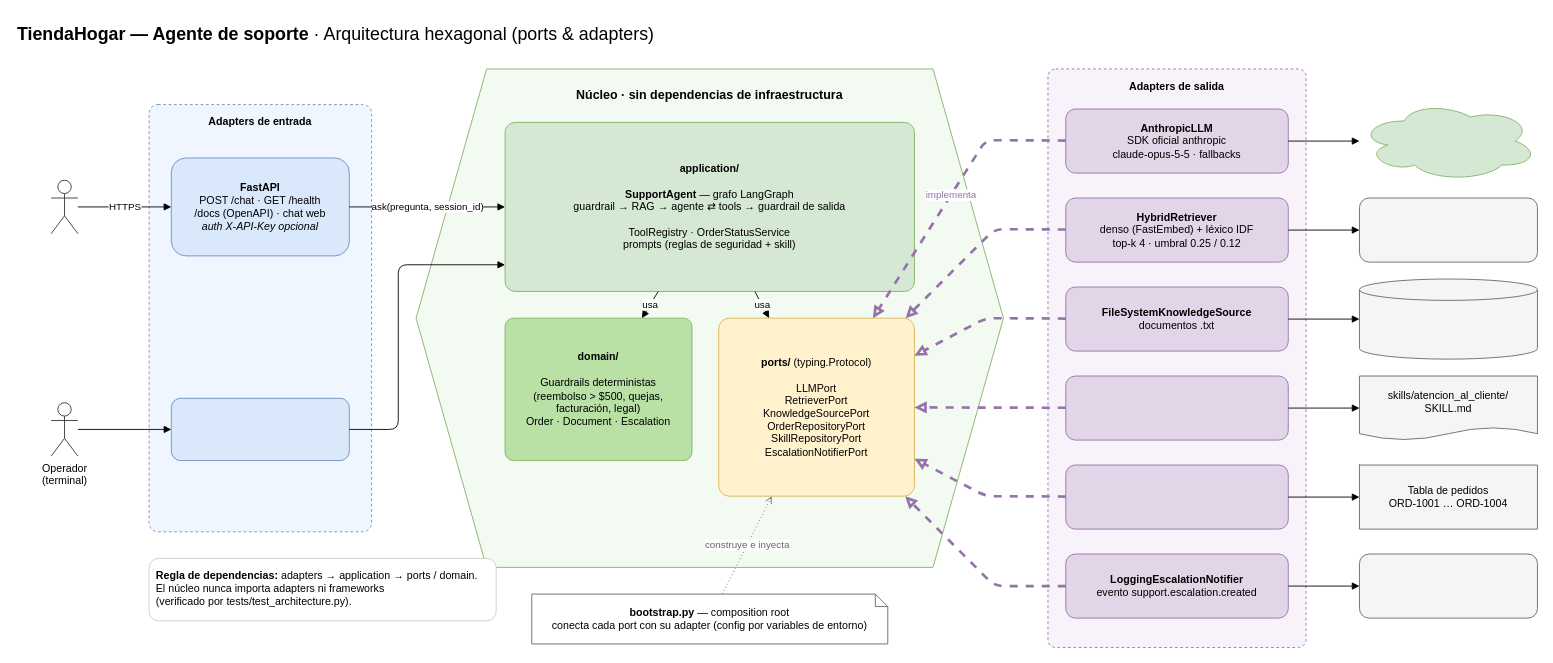
Some shapes in this 1553 by 663 pixel diagram are drawn without their labels. Each missing label, with the centre of its shape:
"Claude API (Anthropic)" belongs at (x=1448, y=140).
"CLI python -m tiendahogar_agent" belongs at (x=259, y=429).
"Cliente (navegador / curl)" belongs at (x=64, y=206).
"data/knowledge_base/ 5 documentos .txt" belongs at (x=1448, y=318).
"FileSystemSkillRepository SKILL.md (tono, empatía)" belongs at (x=1176, y=407).
"InMemoryOrderRepository tabla mock de pedidos" belongs at (x=1176, y=496).
"Logs (texto o JSON, con session_id)" belongs at (x=1448, y=585).
"Modelo de embeddings MiniLM multilingüe (ONNX local)" belongs at (x=1448, y=229).
